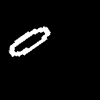chain: (9, 27, 49, 56)
